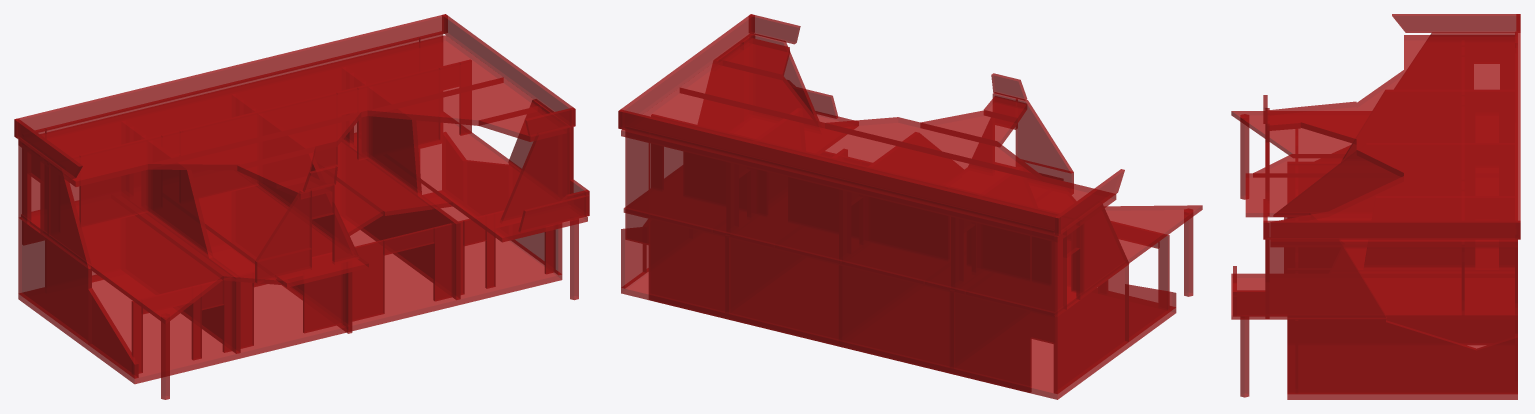
The model's file is SM_Bld_Shop_08_Destroyed_Collision.fbx.
The picture shows the model from 3 angles, left to right: view 1: azimuth 30°, elevation 25°; view 2: azimuth 150°, elevation 25°; view 3: azimuth 270°, elevation 25°; orthographic projection. The views are drawn at different scales.
Visible parts, largest first — view 1: SM_Bld_Shop_08_Destroyed_Collision; view 2: SM_Bld_Shop_08_Destroyed_Collision; view 3: SM_Bld_Shop_08_Destroyed_Collision.
Boxes of the visible parts, bbox=[...] form: SM_Bld_Shop_08_Destroyed_Collision: bbox=[14, 14, 589, 399]; SM_Bld_Shop_08_Destroyed_Collision: bbox=[618, 14, 1202, 399]; SM_Bld_Shop_08_Destroyed_Collision: bbox=[1231, 14, 1520, 399].
Bounding box in the file's own units: 2140 × 850 × 1255.
